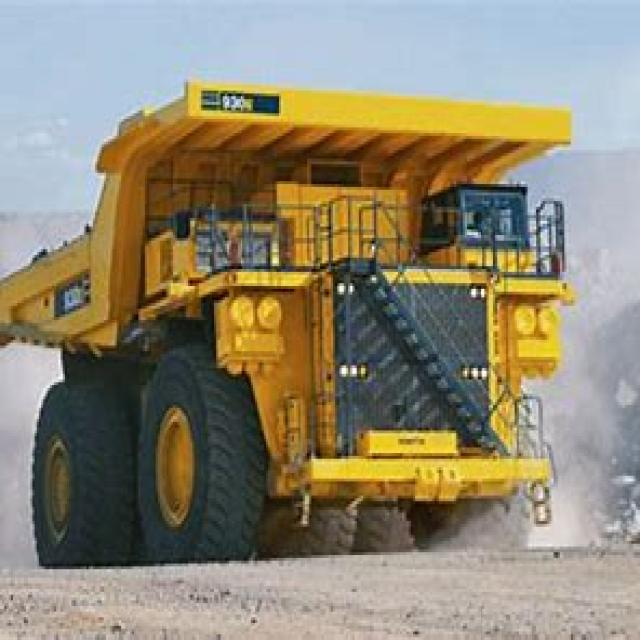dump_truck: (0, 56, 571, 564)
